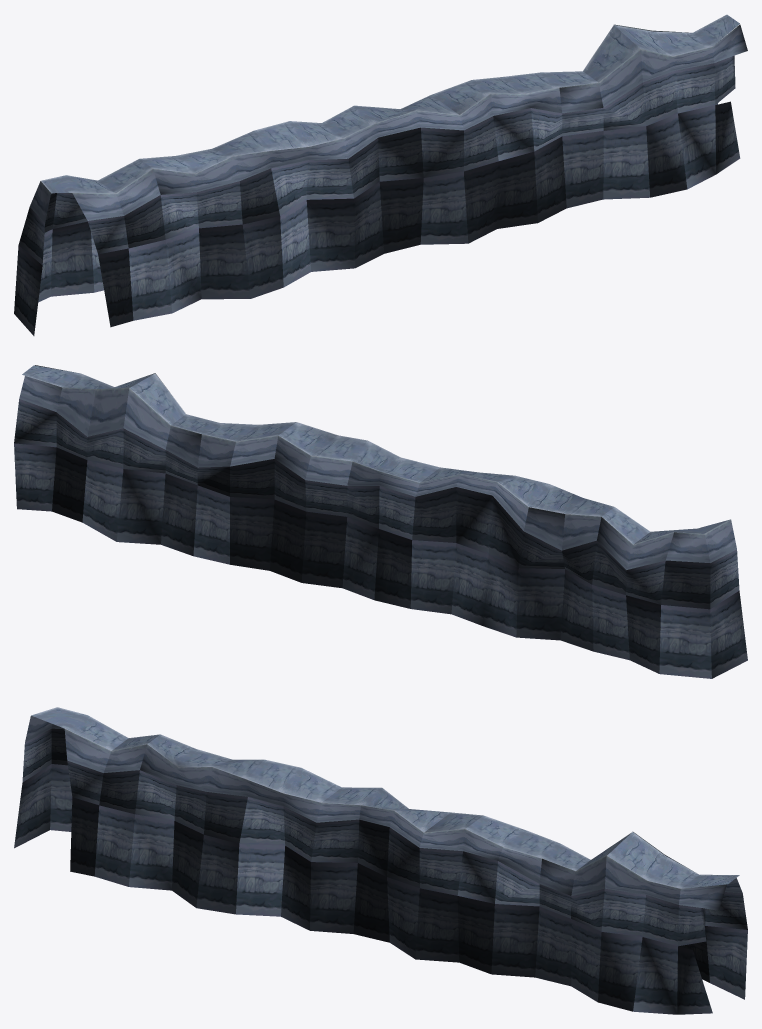
Rendered from wall.glb.
3 views of the same model, one above another, from view 1: azimuth 30°, elevation 25°; view 2: azimuth 150°, elevation 25°; view 3: azimuth 330°, elevation 25° (orthographic).
Visible parts, largest first — view 1: wall; view 2: wall; view 3: wall.
Boxes of the visible parts, x1,y1,x2,y2 form: wall: (14,14,747,335); wall: (14,365,747,678); wall: (14,707,747,1014).
Bounding box in the file's own units: 0.332 × 0.0653 × 0.0424.
3 materials, 3 textured.
